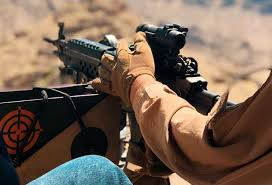Gun: (50, 20, 162, 79)
